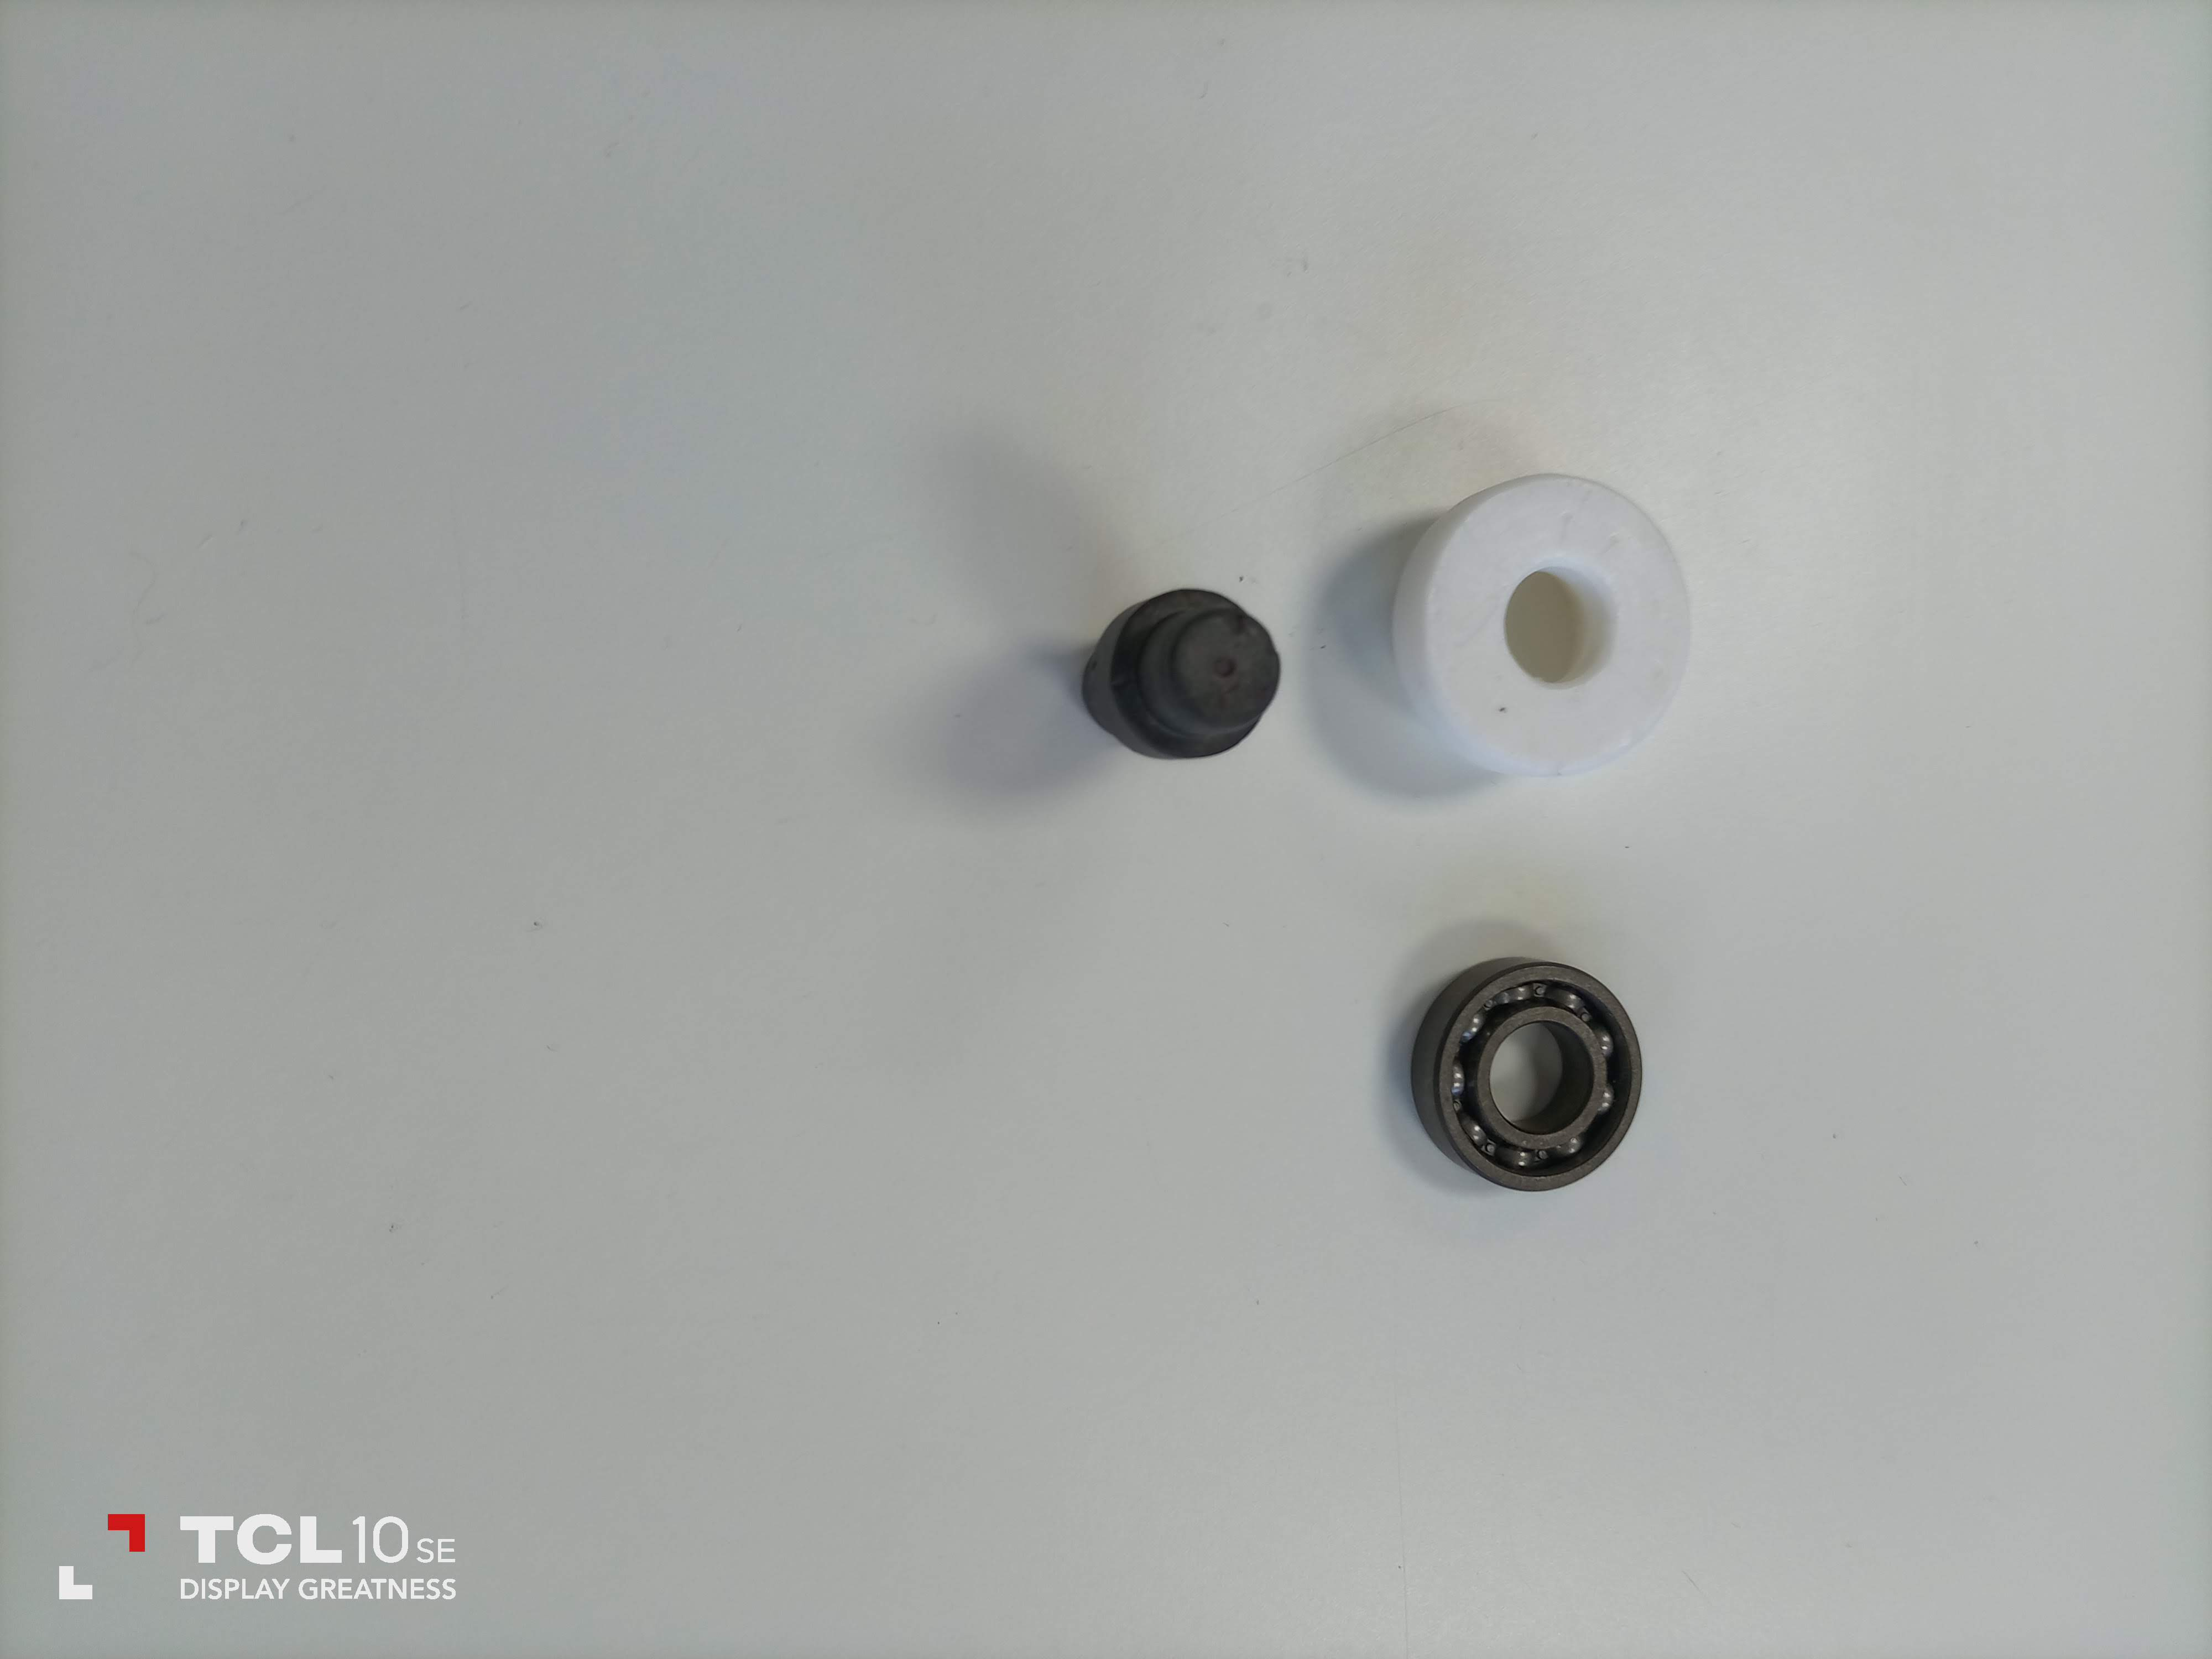Ardatza: (1097, 589, 1275, 760)
Roda: (1411, 967, 1629, 1197)
Tapa: (1399, 477, 1693, 772)
